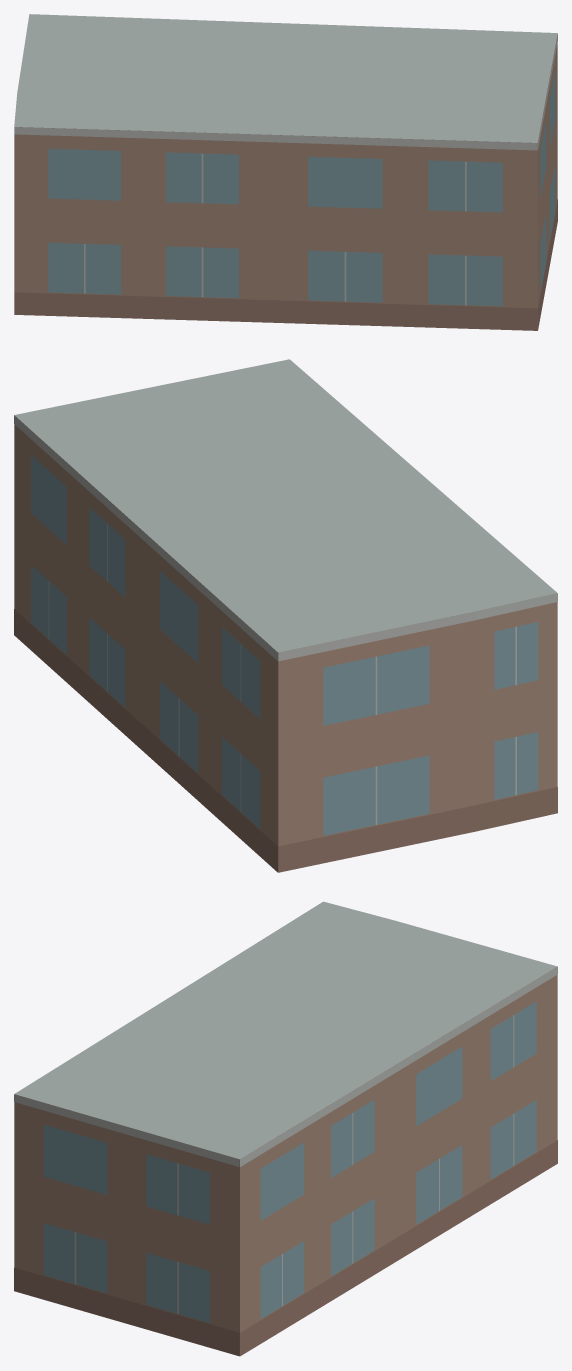
Rendered from survey-upis-32705528.glb.
3 renders of one model, top to bottom at view 1: azimuth 30°, elevation 25°; view 2: azimuth 150°, elevation 25°; view 3: azimuth 270°, elevation 25°, orthographic. The views are drawn at different scales.
Visible parts, largest first — view 1: survey-upis-32705528.tmp; view 2: survey-upis-32705528.tmp; view 3: survey-upis-32705528.tmp.
Part boxes in pixels (x1,y1,x2,y2): survey-upis-32705528.tmp: (14,14,557,330); survey-upis-32705528.tmp: (14,359,557,872); survey-upis-32705528.tmp: (14,901,557,1356).
Bounding box in the file's own units: 17.13 × 6.1 × 15.26.
